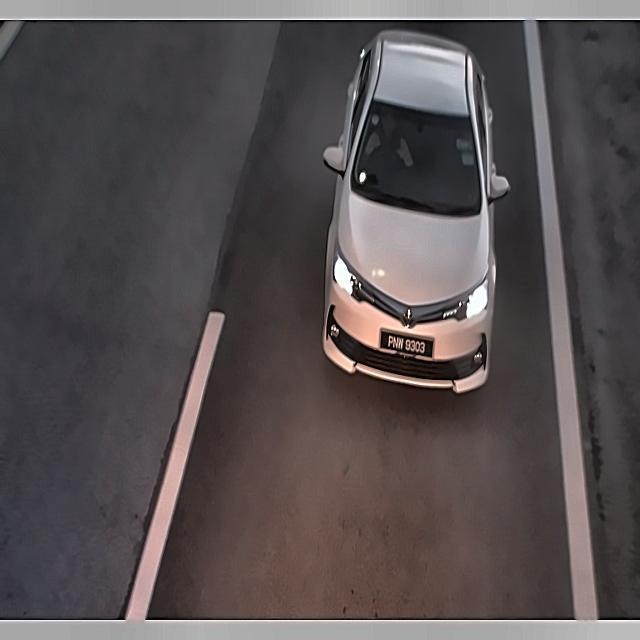car: (377, 321, 438, 368)
